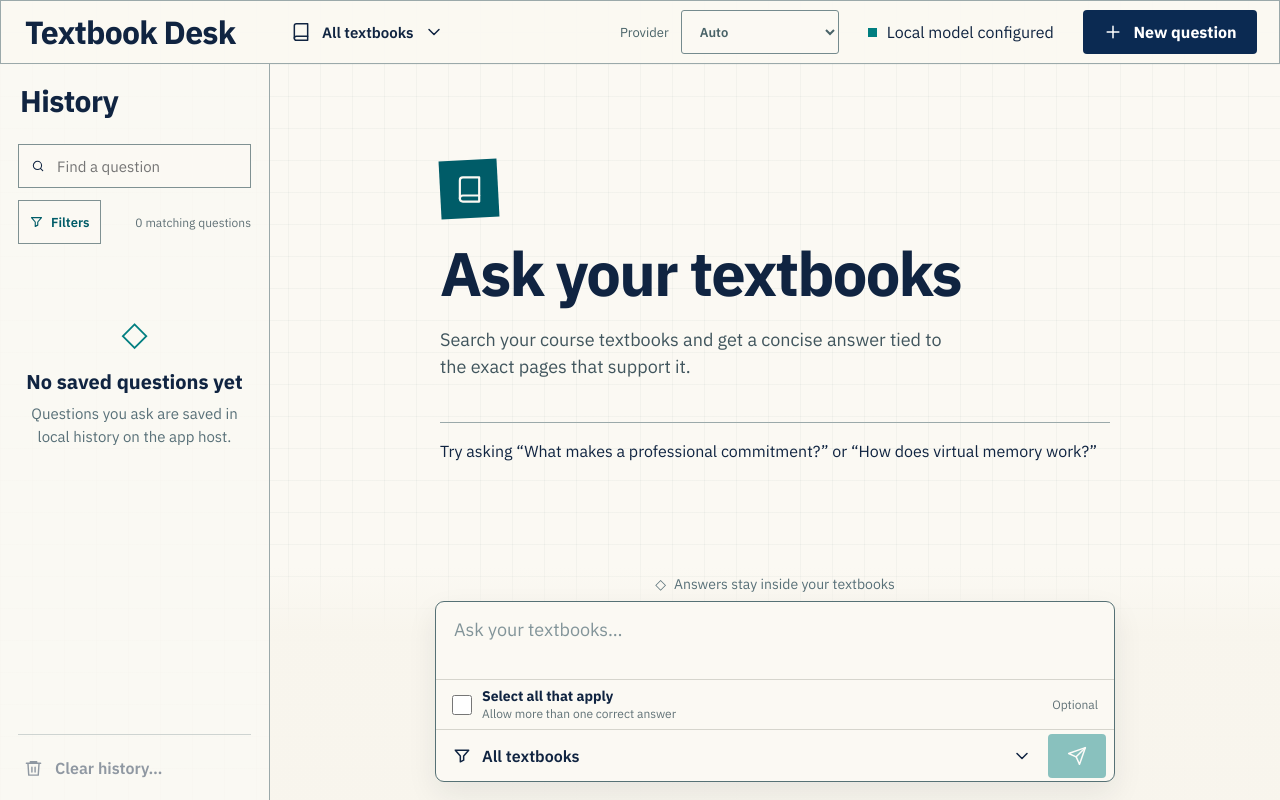
Textbook Desk › distinguishes a provider abstention from retrieval insufficiency
The image size is (1280, 800).
In the text box with placeholder "Ask your textbooks…": (775, 638) [436,602,1114,675], type "Explain the passage"
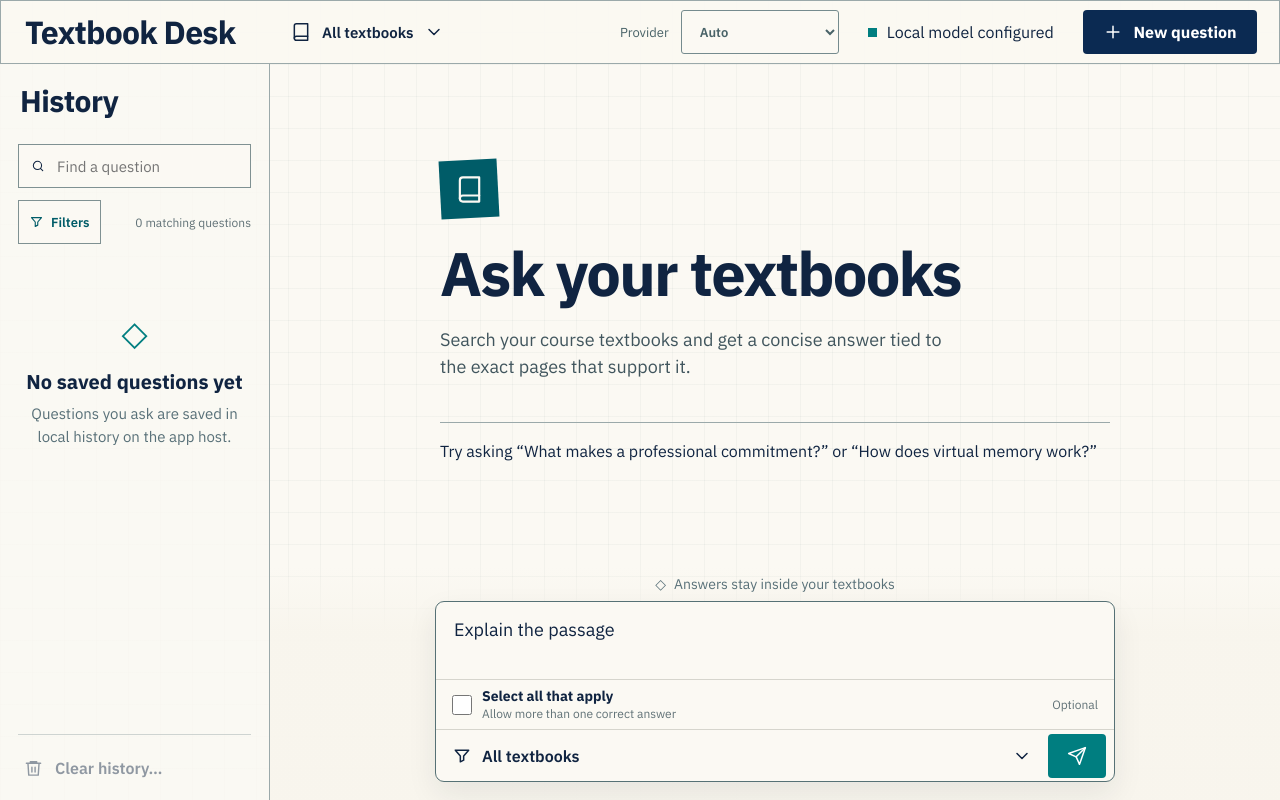
Click the button named "Ask question": (1077, 756) [1048,734,1106,778]
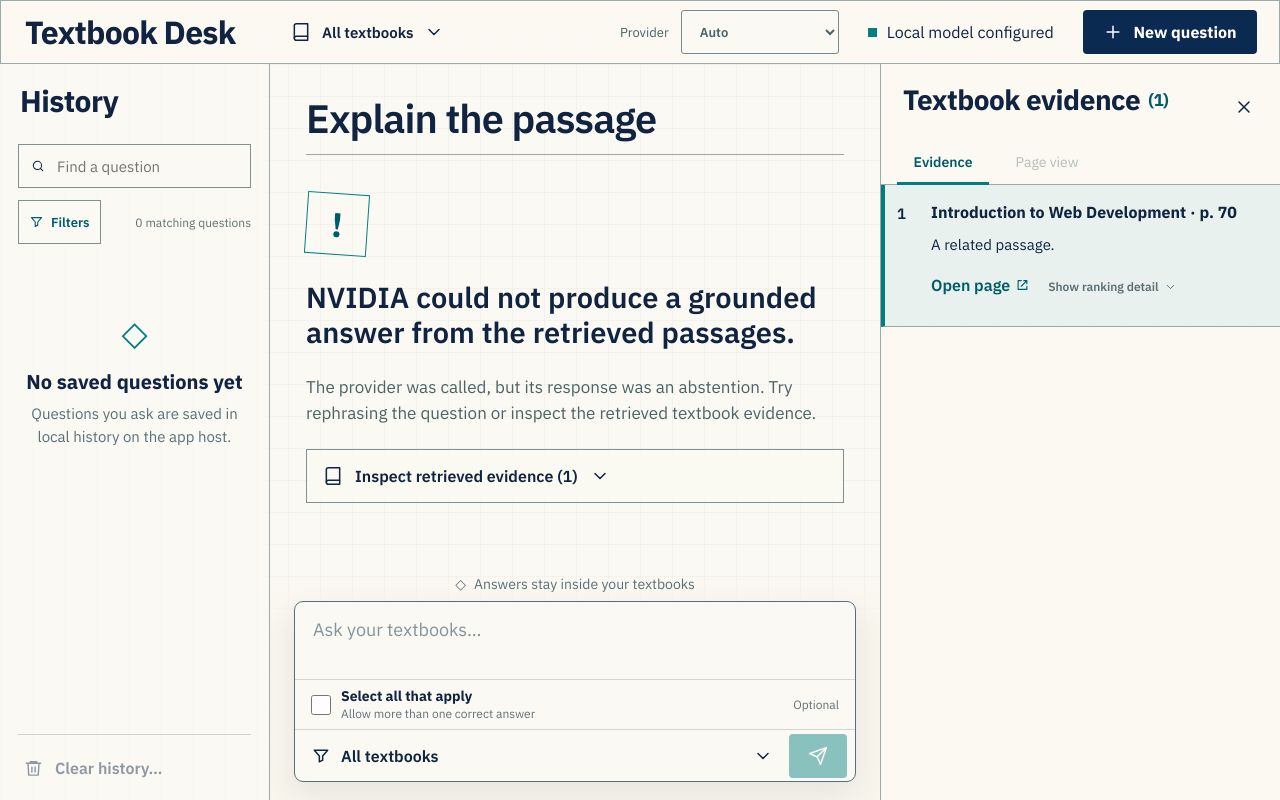
Now the heading "NVIDIA could not produce a grounded answer" is shown, box [306,280,836,350]
Now the text "The provider was called" is shown, box [306,376,816,424]
